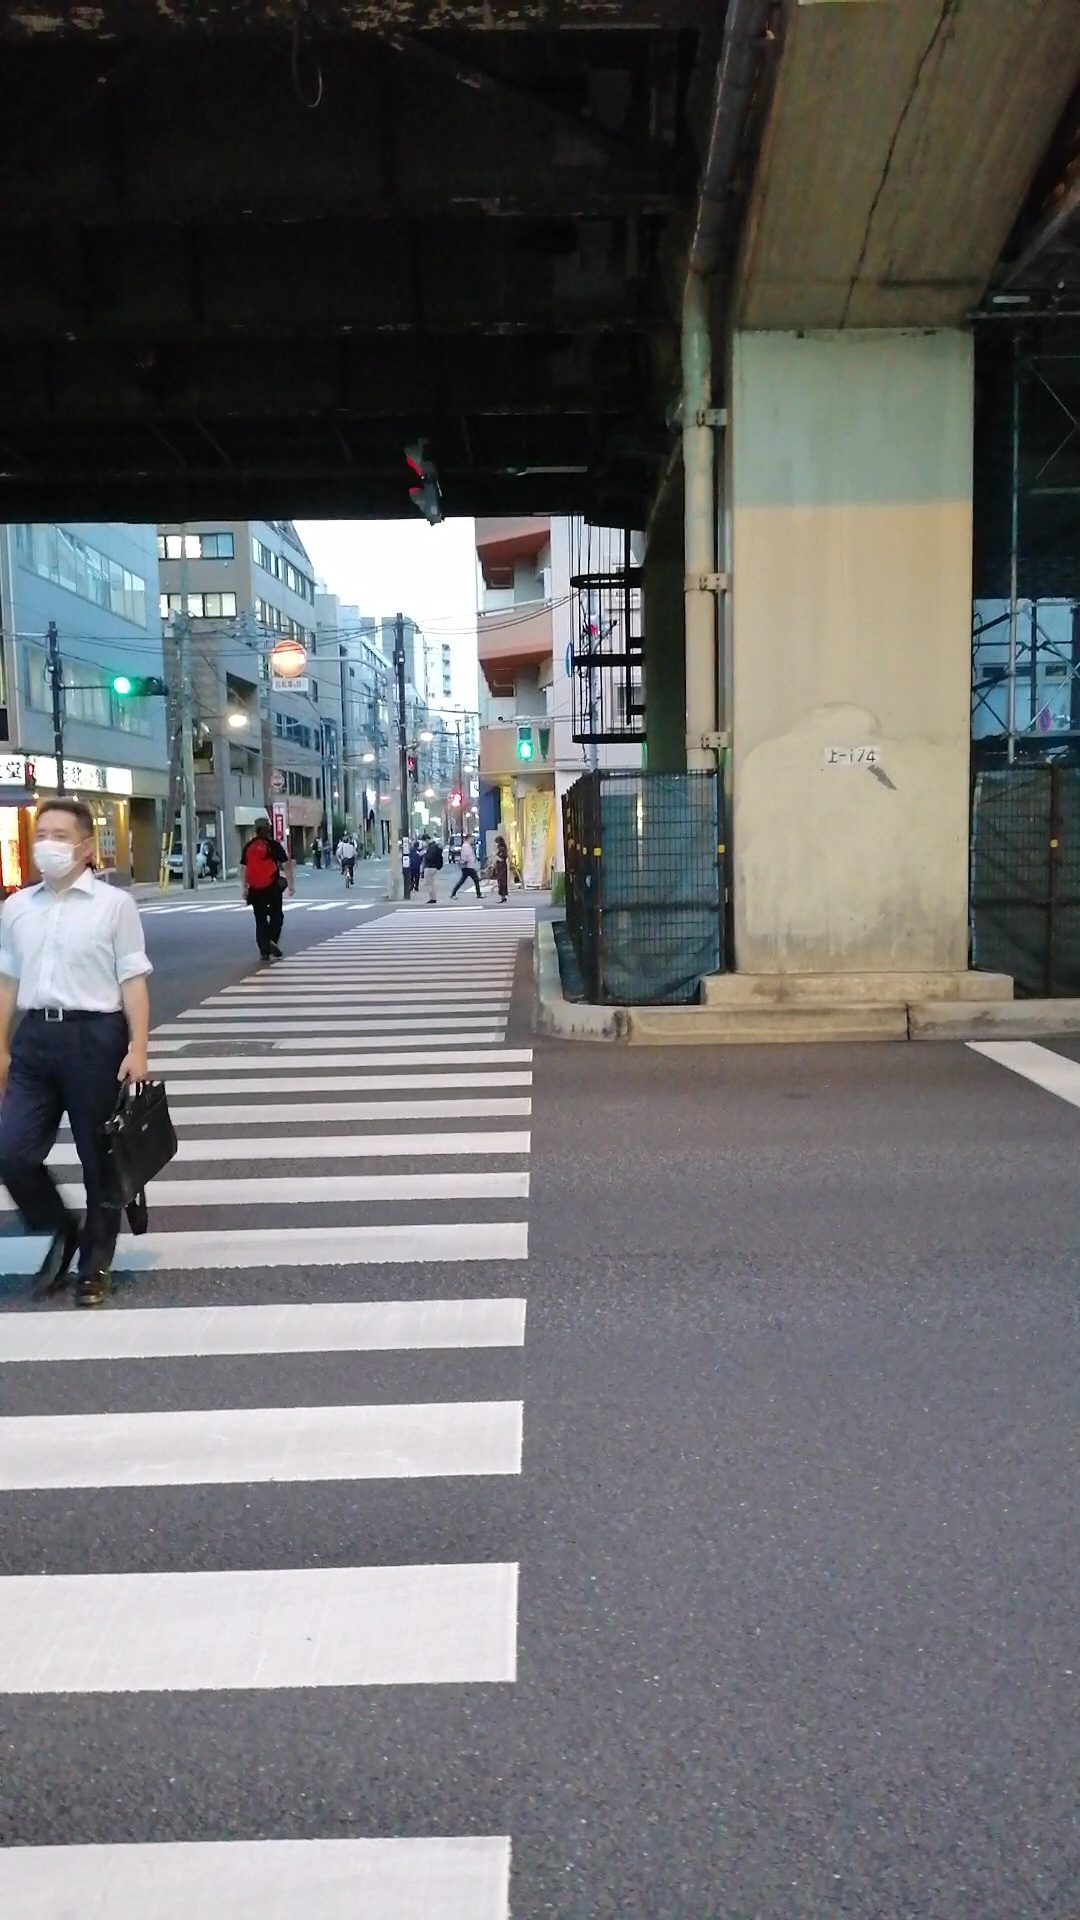green: (514, 723, 535, 762)
